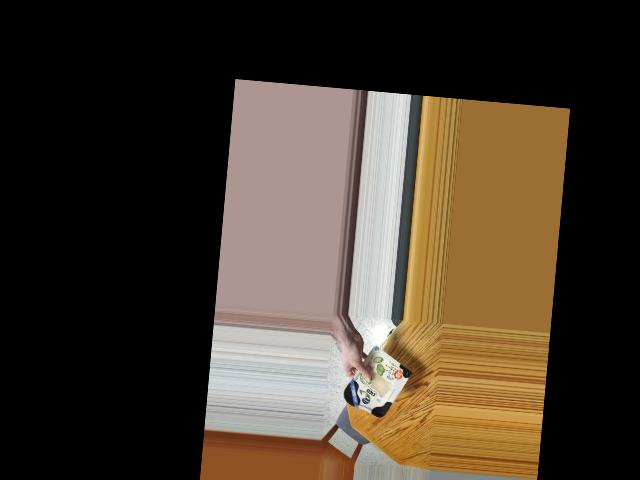cheese: (343, 351, 408, 418)
